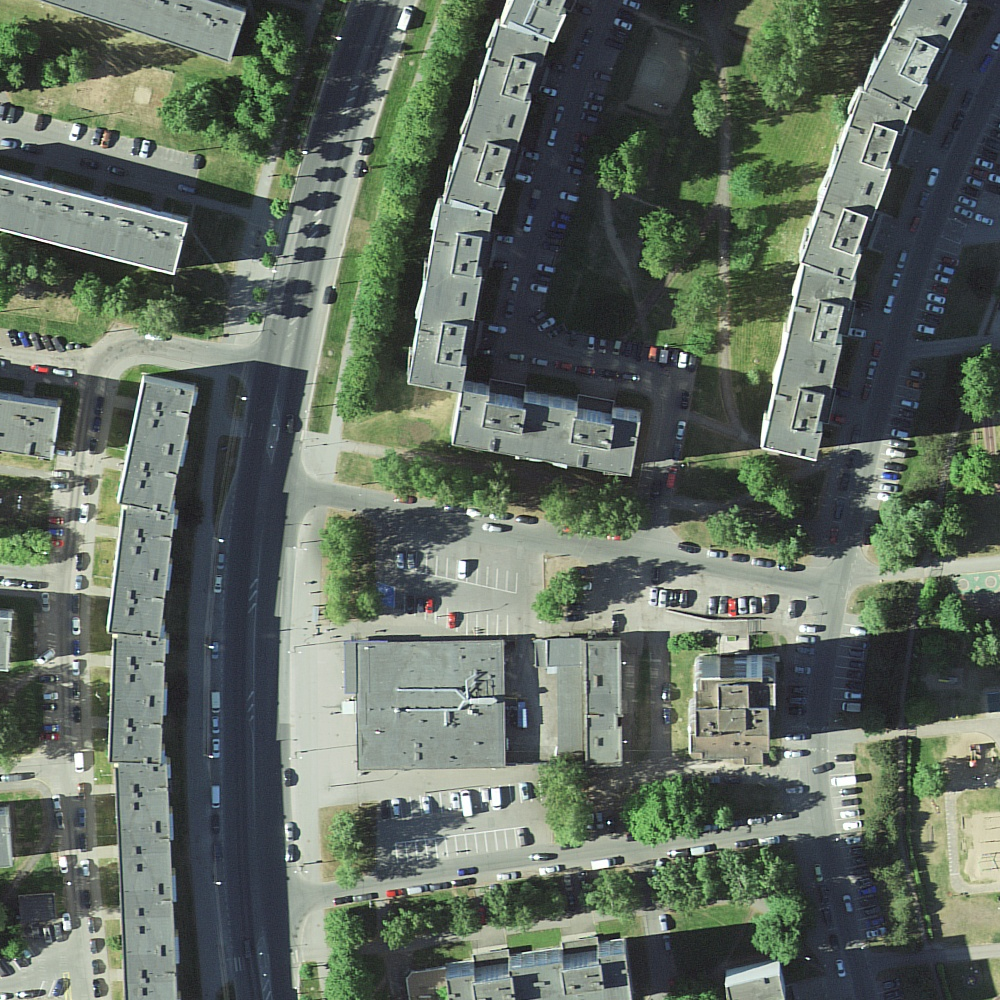building: (760, 1, 968, 462), (408, 1, 568, 395), (108, 378, 195, 1000), (344, 641, 507, 771), (1, 175, 189, 275), (453, 391, 640, 477), (44, 1, 247, 64), (544, 640, 624, 767), (446, 953, 631, 999), (688, 676, 779, 767), (3, 399, 62, 461), (725, 974, 785, 999), (1, 812, 13, 868), (2, 619, 14, 672)
